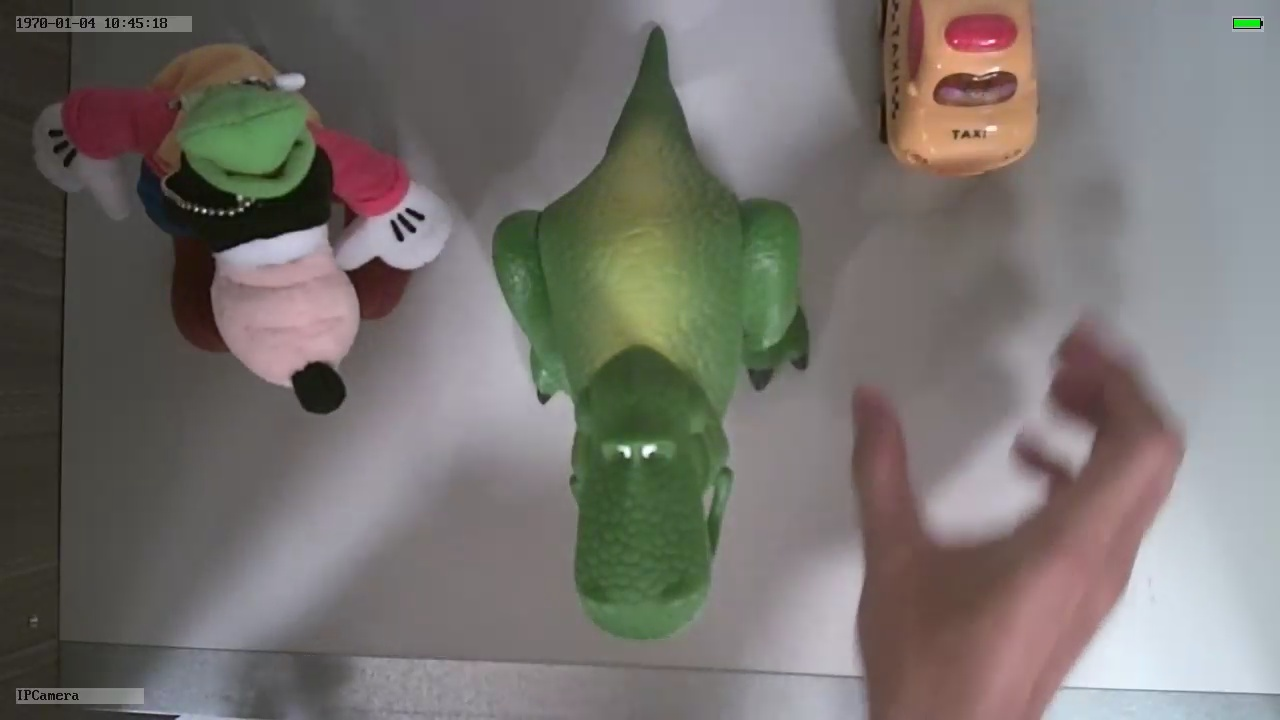goofy: (26, 39, 456, 418)
rex: (494, 101, 812, 639)
